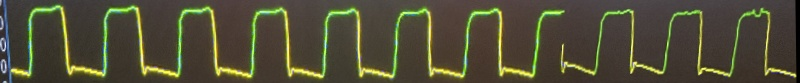normal_pressure: (0, 2, 771, 83)
